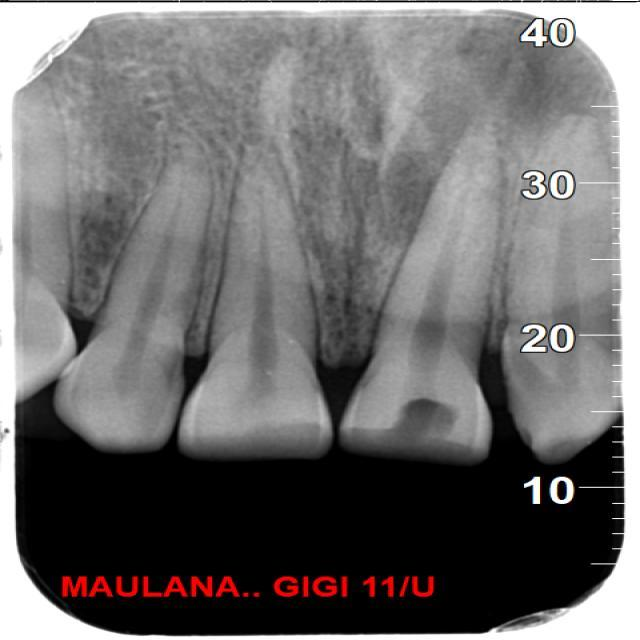individual-tooth-8tto: (53, 125, 221, 459), (340, 138, 495, 461), (180, 149, 342, 455)
